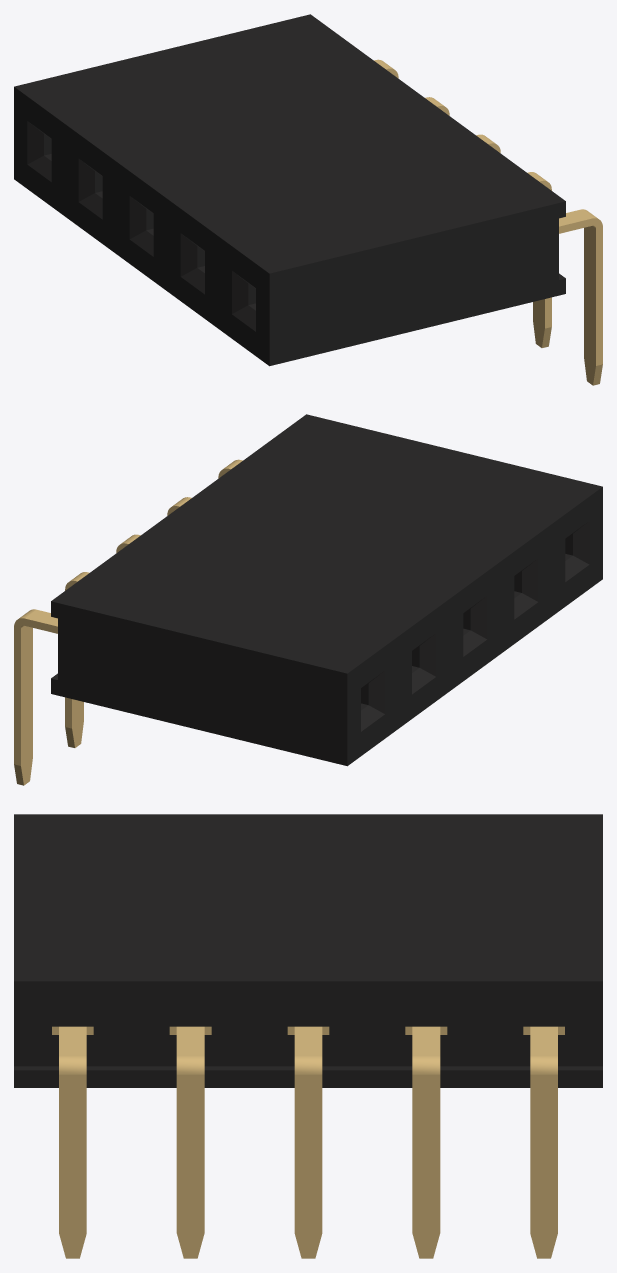
Rendered from kc-pinsocket_1x05_p2.54mm_horizontal.glb.
The picture shows the model from 3 angles, top to bottom: view 1: azimuth 30°, elevation 25°; view 2: azimuth 150°, elevation 25°; view 3: azimuth 270°, elevation 25°; orthographic projection. The views are drawn at different scales.
Visible parts, largest first — view 1: 0_0_0_0, 0.75_0.5_0.25_0.9; view 2: 0_0_0_0, 0.75_0.5_0.25_0.9; view 3: 0_0_0_0, 0.75_0.5_0.25_0.9.
Part boxes in pixels (left/top/right/bottom): 0_0_0_0: left=14, top=14, right=565, bottom=366; 0.75_0.5_0.25_0.9: left=374, top=59, right=602, bottom=385; 0_0_0_0: left=51, top=414, right=602, bottom=766; 0.75_0.5_0.25_0.9: left=14, top=459, right=242, bottom=785; 0_0_0_0: left=14, top=814, right=602, bottom=1087; 0.75_0.5_0.25_0.9: left=52, top=1026, right=564, bottom=1258.
Bounding box in the file's own units: 1.01 × 0.584 × 1.27.
